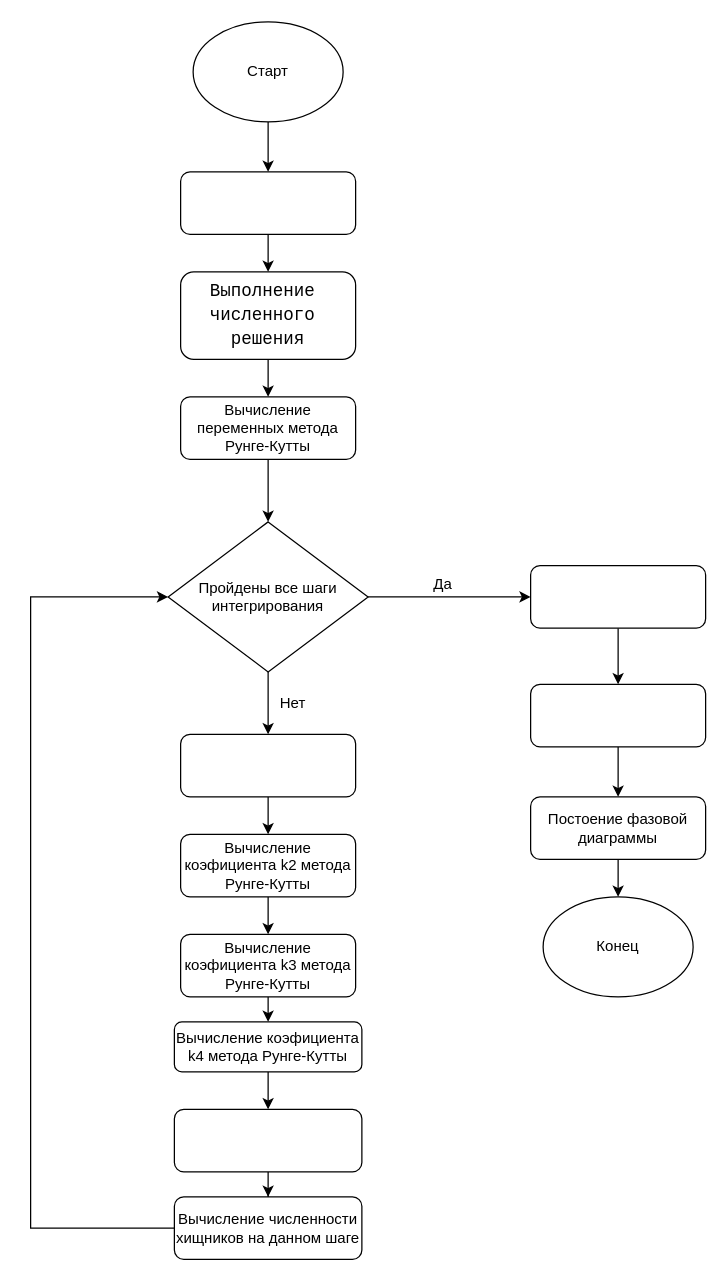
The diagram is 728 pixels wide and 1281 high, and some of its shapes have lost their labels. The shapes that lost their labels are listed below. From the top down, each one's centre as x and y in pixels, then its label:
At (267,202): "Инициализация начальных параметров".
At (617,596): "Постоение графика популяции от времени".
At (617,715): "Нахождение стационарных точек".
At (267,765): "Вычисление коэфициента k1 метода Рунге-Кутты".
At (267,1140): "Вычисление численности жертв на данном шаге".
